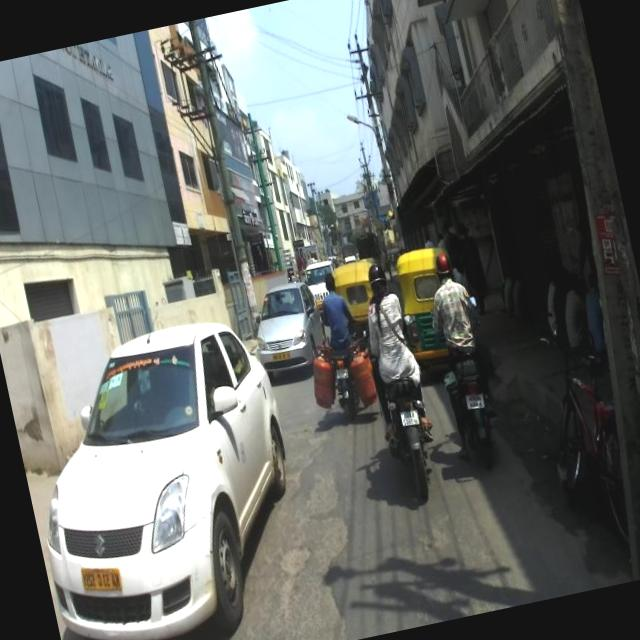pothole: (299, 421, 396, 640), (383, 504, 468, 596), (264, 528, 332, 621)
